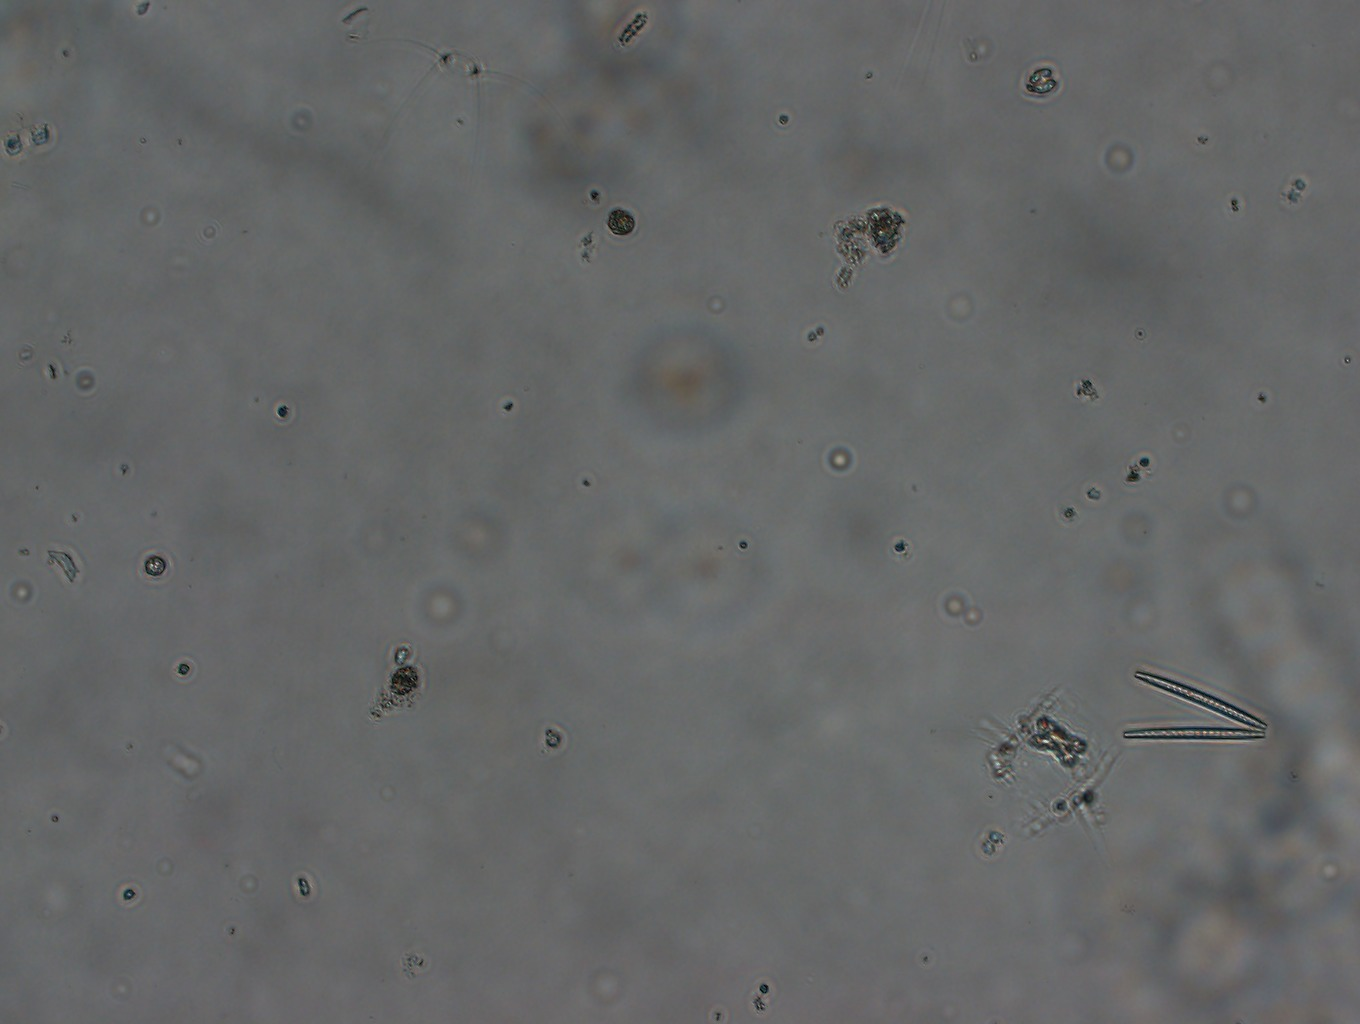thalassionema frauenfeldii: (1110, 663, 1275, 776)
